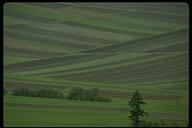field: (5, 4, 187, 81)
grass: (6, 79, 115, 104)
tree: (127, 88, 150, 125)
